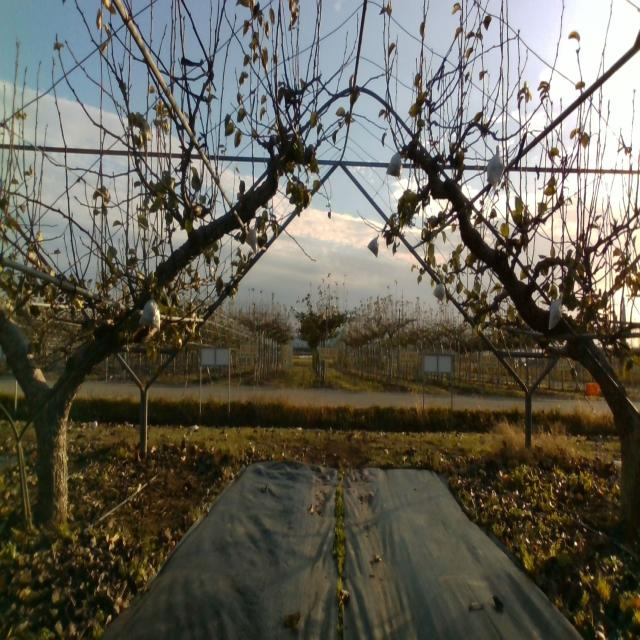pearbags: (486, 145, 504, 191), (139, 294, 160, 332), (548, 291, 563, 331), (385, 147, 403, 180), (243, 228, 260, 255), (367, 235, 380, 257), (434, 283, 446, 302)
